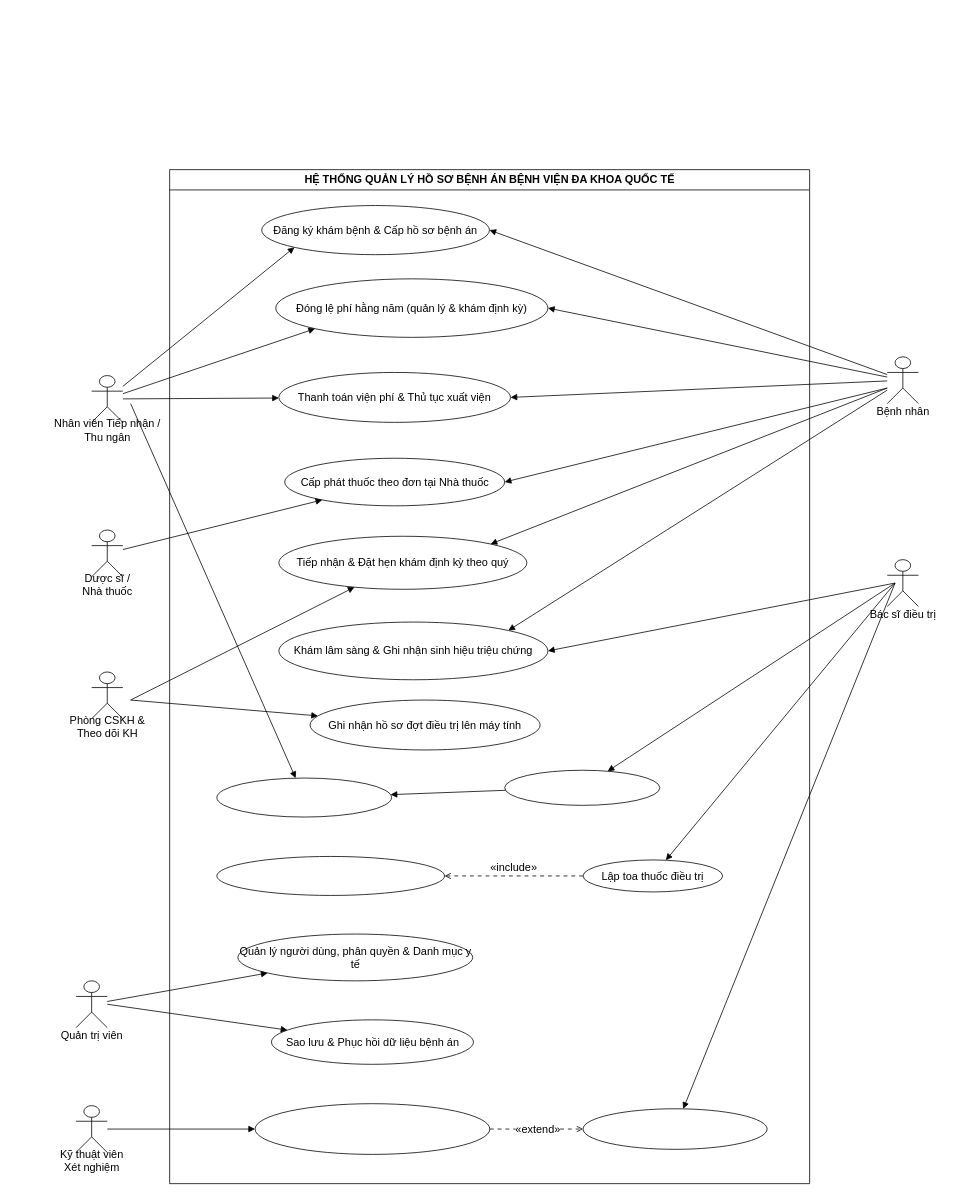
Image size: 959x1197. Some labels were removed from this diagram. Here are the shapes that lost their labels. From the top down, the centre of each, then its label:
the point at 304,797: Tra cứu lý lịch hồ sơ bệnh án
the point at 582,787: Chẩn đoán xác định bệnh
the point at 330,875: Kiểm tra tiền sử phản ứng phụ & Dị ứng thuốc
the point at 372,1128: Thực hiện & Cập nhật kết quả xét nghiệm
the point at 674,1128: Lập phiếu chỉ định xét nghiệm
